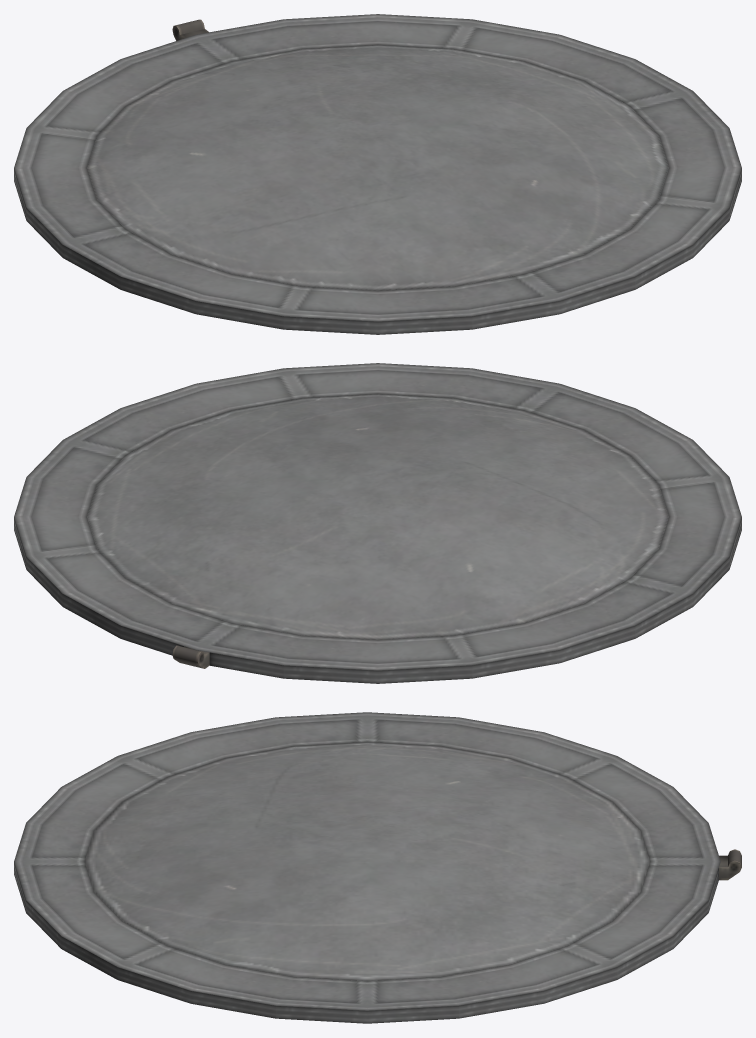
The model's file is solar_base.obj.
The picture shows the model from 3 angles, top to bottom: view 1: azimuth 30°, elevation 25°; view 2: azimuth 150°, elevation 25°; view 3: azimuth 270°, elevation 25°; orthographic projection. The views are drawn at different scales.
Visible parts, largest first — view 1: 1; view 2: 1; view 3: 1.
Boxes of the visible parts, box(x1,y1,x2,y2) form: 1: box(14, 14, 741, 334); 1: box(14, 363, 741, 683); 1: box(14, 712, 741, 1023).
Size of the model in its own units: 1.25 by 0.075 by 1.29.
1 material, 1 textured.
